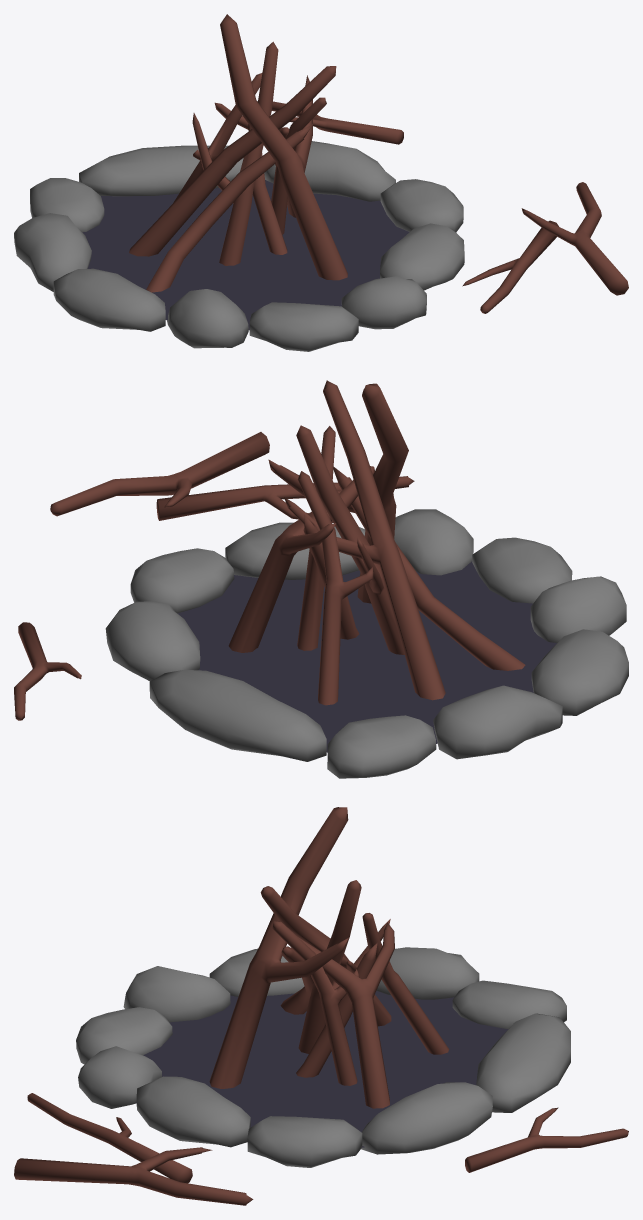
Rendered from fireplace.fbx.
3 views of the same model, one above another, from view 1: azimuth 30°, elevation 25°; view 2: azimuth 150°, elevation 25°; view 3: azimuth 270°, elevation 25° (orthographic). The views are drawn at different scales.
Parts seen in each view (by area): view 1: fireplace_stones, fireplace_sticks, fireplace_ashes; view 2: fireplace_stones, fireplace_sticks, fireplace_ashes; view 3: fireplace_stones, fireplace_sticks, fireplace_ashes.
Boxes of the visible parts, x1=… form: fireplace_stones: x1=14, y1=141, x2=464, y2=351; fireplace_sticks: x1=129, y1=14, x2=628, y2=313; fireplace_ashes: x1=82, y1=180, x2=409, y2=330; fireplace_stones: x1=105, y1=509, x2=628, y2=778; fireplace_sticks: x1=14, y1=380, x2=525, y2=720; fireplace_ashes: x1=177, y1=561, x2=556, y2=752; fireplace_stones: x1=76, y1=947, x2=570, y2=1167; fireplace_sticks: x1=14, y1=807, x2=628, y2=1205; fireplace_ashes: x1=136, y1=991, x2=508, y2=1147.
Bounding box in the file's own units: 223 × 125 × 222.
